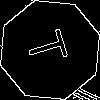T: (25, 25, 77, 68)
